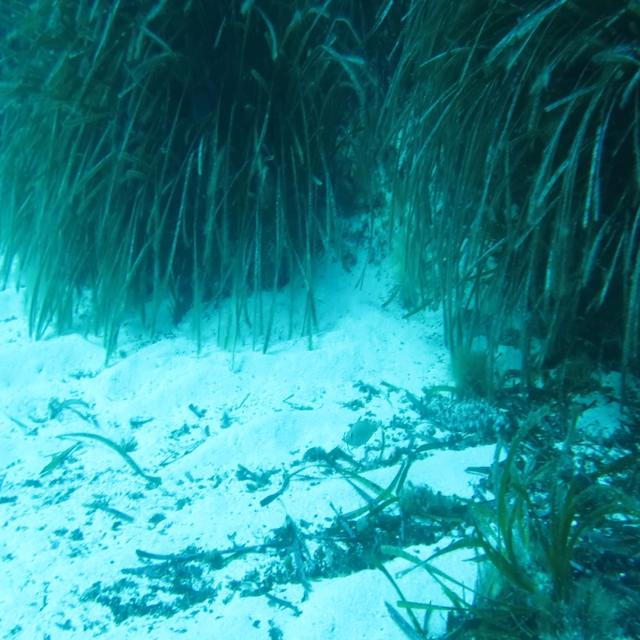AM: (341, 410, 384, 450)
vegetation: (0, 0, 367, 292), (374, 0, 640, 361), (455, 366, 640, 639), (341, 430, 350, 453)
